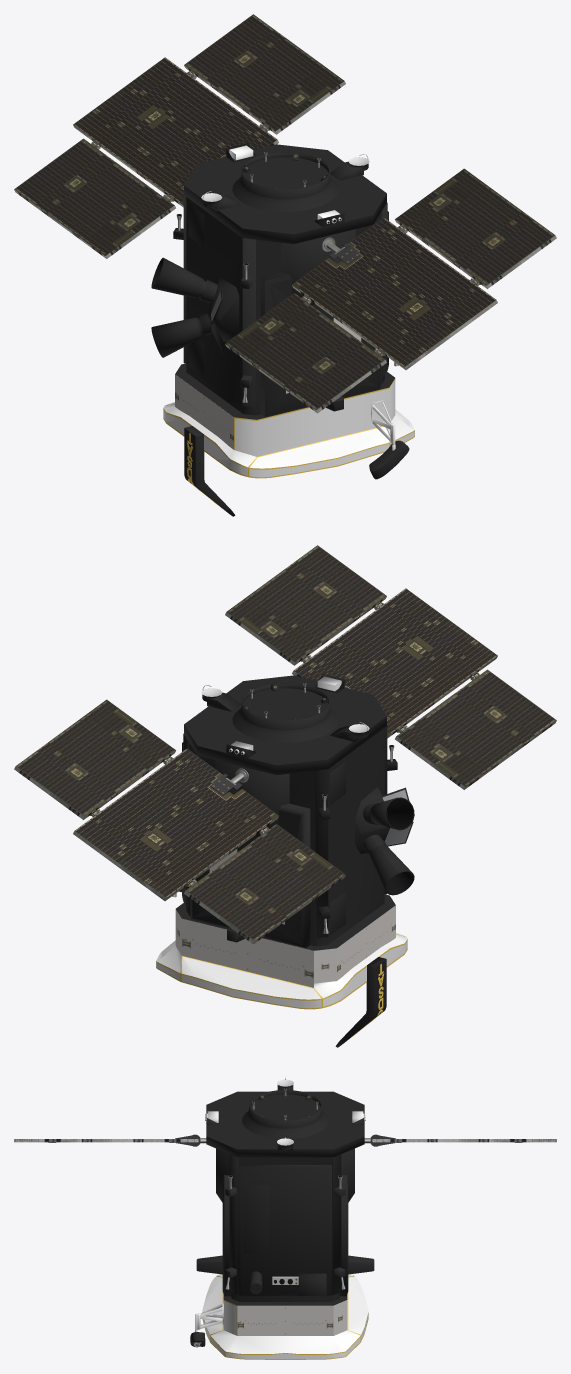
Rendered from cloudsat-c.glb.
The picture shows the model from 3 angles, top to bottom: view 1: azimuth 30°, elevation 25°; view 2: azimuth 150°, elevation 25°; view 3: azimuth 270°, elevation 25°; orthographic projection. The views are drawn at different scales.
Visible parts, largest first — view 1: shiny_panel, BUS, foil_silver, tex_01, foil_gold, metal; view 2: shiny_panel, BUS, tex_01, foil_silver, foil_gold, metal; view 3: BUS, foil_silver, tex_01, metal, foil_gold.
Part boxes in pixels (<box>): shiny_panel: <box>14,14,555,410</box>; BUS: <box>151,143,409,516</box>; foil_silver: <box>163,145,414,477</box>; tex_01: <box>14,65,556,449</box>; foil_gold: <box>163,378,414,506</box>; metal: <box>176,152,398,402</box>; shiny_panel: <box>15,545,556,941</box>; BUS: <box>176,674,414,1047</box>; tex_01: <box>14,596,556,987</box>; foil_silver: <box>156,676,407,1008</box>; foil_gold: <box>156,934,407,1037</box>; metal: <box>172,683,394,933</box>; BUS: <box>190,1079,374,1347</box>; foil_silver: <box>195,1111,368,1359</box>; tex_01: <box>14,1139,556,1335</box>; metal: <box>175,1088,395,1346</box>; foil_gold: <box>202,1275,368,1359</box>.
Size of the model in its own units: 2.41 by 3.2 by 5.52.
Materials: 7 (4 with a texture image).
